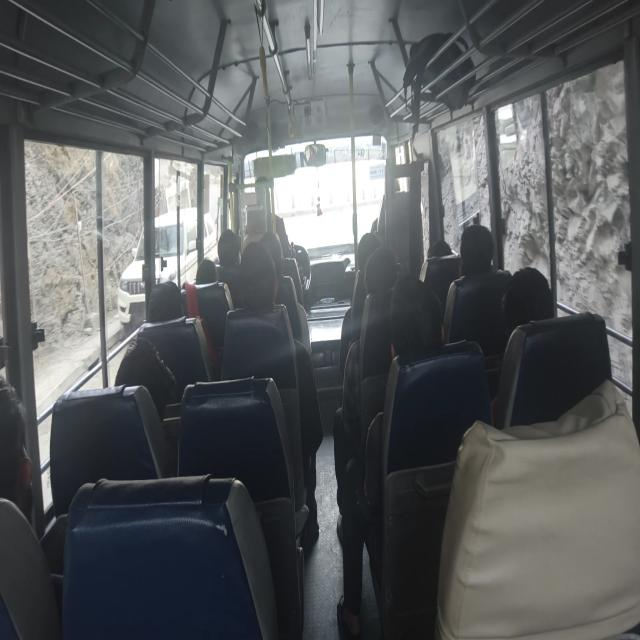person: (336, 274, 444, 637), (225, 239, 322, 545), (333, 245, 400, 541), (0, 373, 63, 637), (442, 223, 510, 353), (339, 231, 382, 377), (114, 334, 178, 420), (0, 374, 34, 522), (500, 266, 554, 334), (215, 228, 242, 306), (147, 280, 186, 322), (217, 228, 240, 268)
